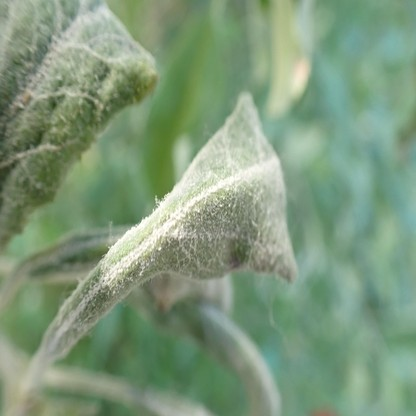powdery_mildew: (25, 89, 297, 380), (0, 2, 158, 245)
